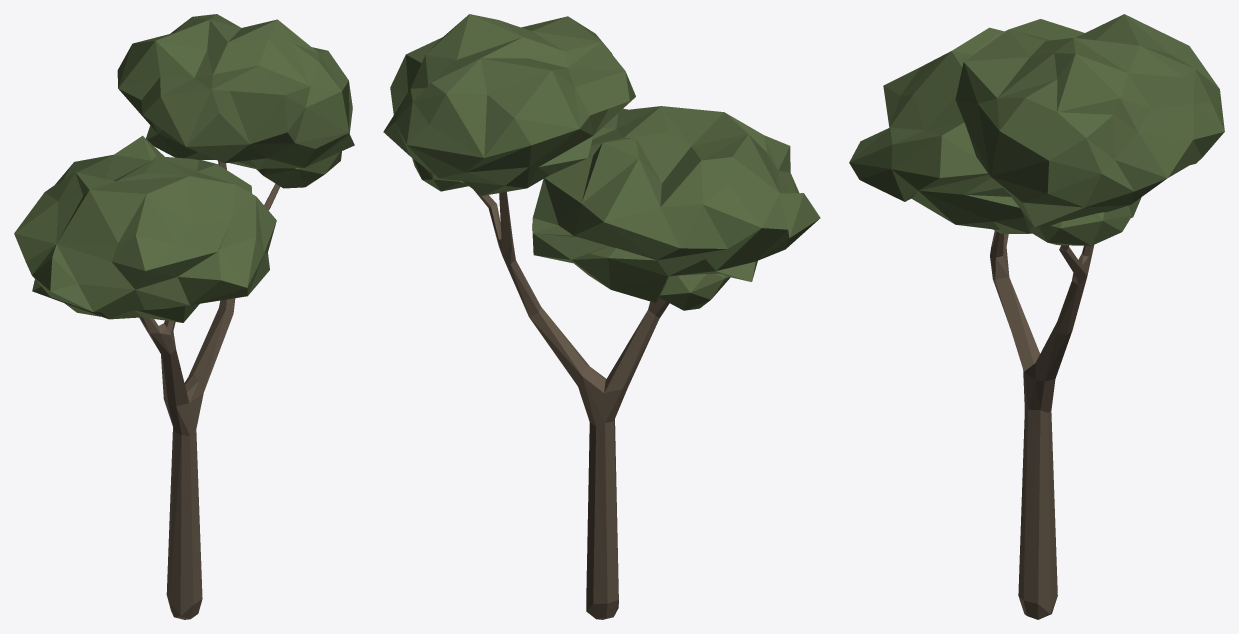
The model's file is SM_Envr_Nature_Tree_Large_11.fbx.
3 views of the same model, side by side, from view 1: azimuth 30°, elevation 25°; view 2: azimuth 150°, elevation 25°; view 3: azimuth 270°, elevation 25° (orthographic). The views are drawn at different scales.
Parts seen in each view (by area): view 1: SM_Envr_Nature_Tree_Large_11; view 2: SM_Envr_Nature_Tree_Large_11; view 3: SM_Envr_Nature_Tree_Large_11.
Part boxes in pixels (bbox=[...]): SM_Envr_Nature_Tree_Large_11: bbox=[14, 14, 354, 619]; SM_Envr_Nature_Tree_Large_11: bbox=[383, 14, 820, 619]; SM_Envr_Nature_Tree_Large_11: bbox=[849, 14, 1224, 619].
Size of the model in its own units: 621 by 966 by 526.
